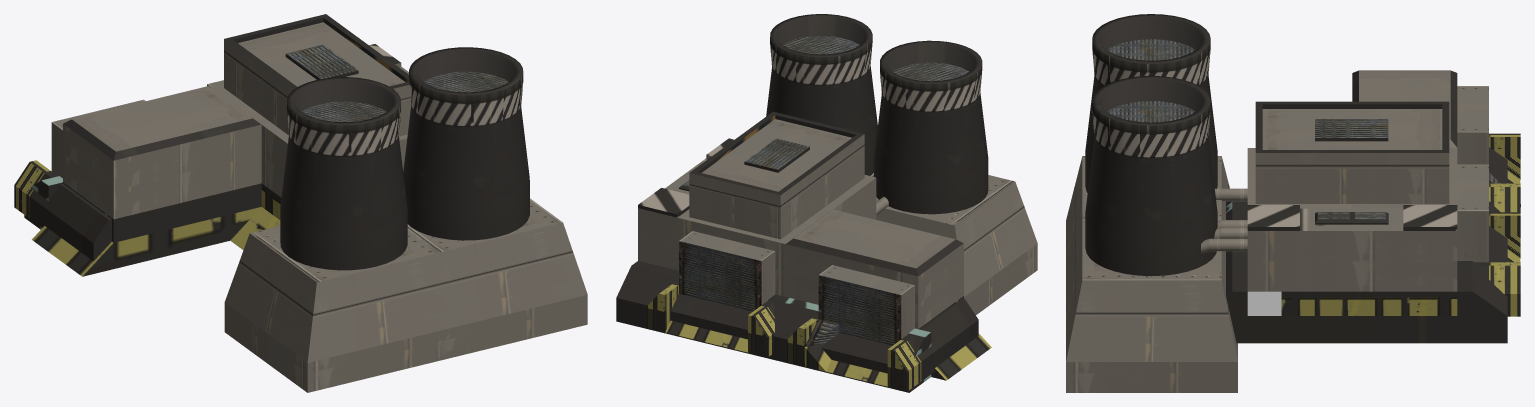
The model's file is usina.dae.
The picture shows the model from 3 angles, left to right: view 1: azimuth 30°, elevation 25°; view 2: azimuth 150°, elevation 25°; view 3: azimuth 270°, elevation 25°; orthographic projection. The views are drawn at different scales.
Visible parts, largest first — view 1: usina; view 2: usina; view 3: usina.
Part boxes in pixels (left/top/right/bottom): usina: left=14, top=14, right=587, bottom=392; usina: left=616, top=14, right=1037, bottom=392; usina: left=1066, top=14, right=1520, bottom=392.
Bounding box in the file's own units: 36.56 × 37.83 × 23.08.
